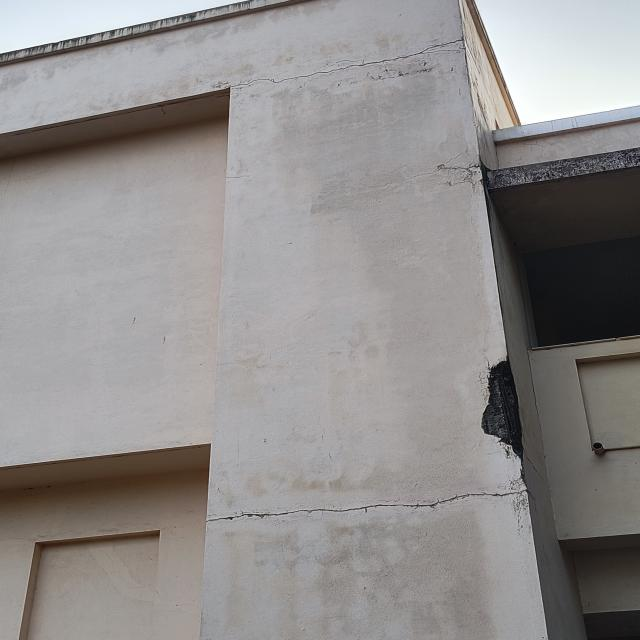Crack: (227, 17, 474, 122), (188, 471, 553, 539)
Scaling: (416, 314, 524, 472)
